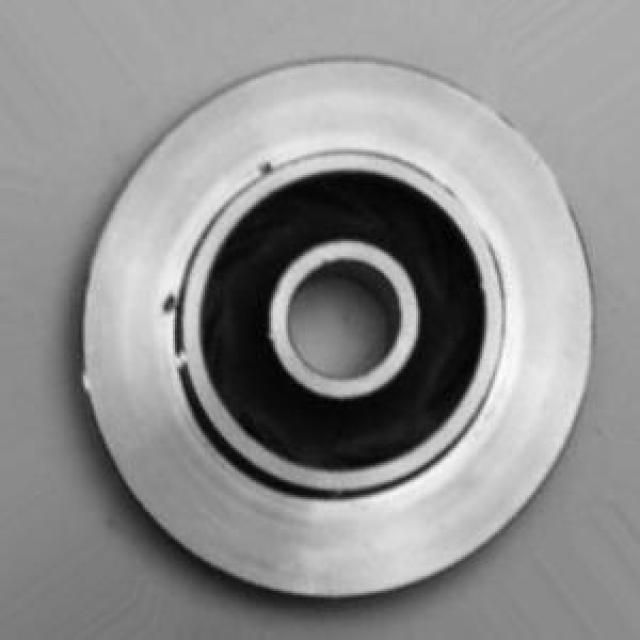Defect: (251, 152, 279, 181)
